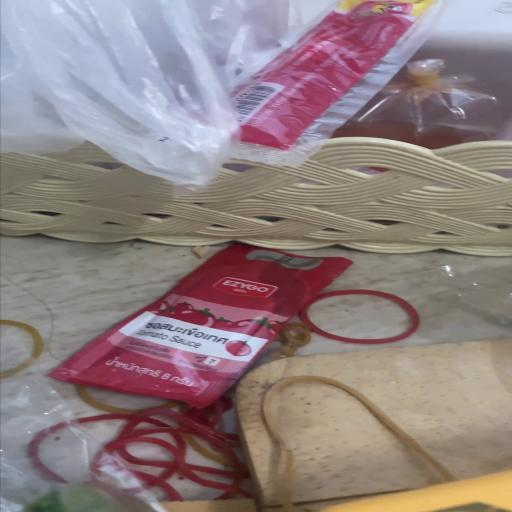brand_golden_good: (236, 340, 512, 511)
